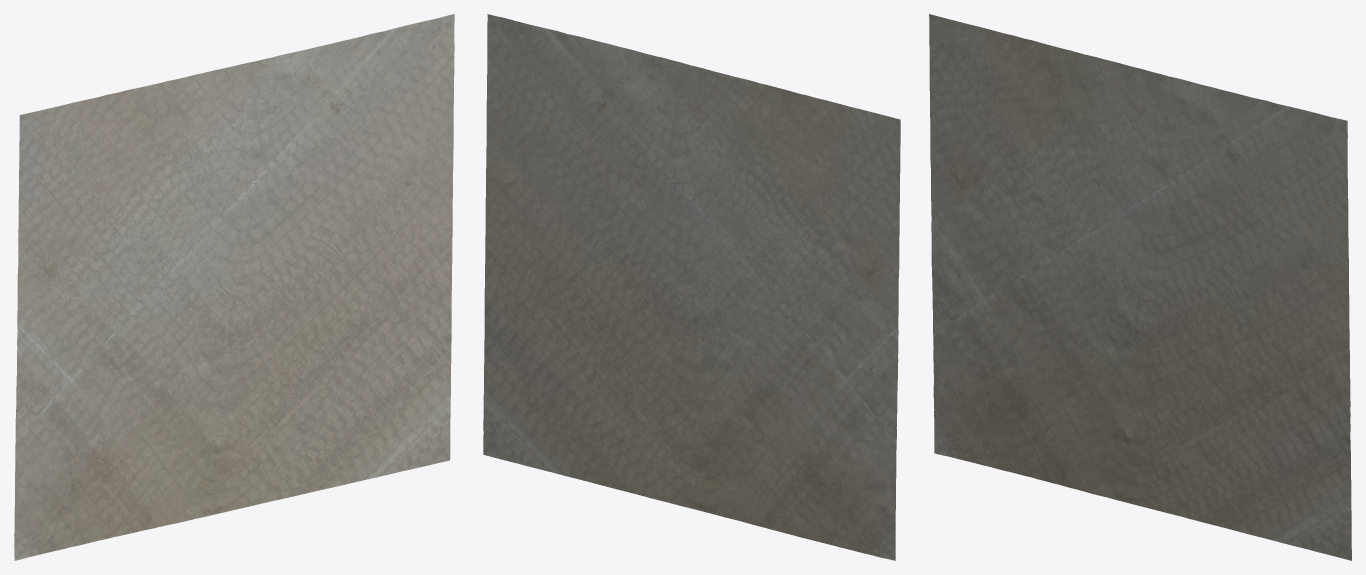
The model's file is Tile_+019_+012.fbx.
3 renders of one model, left to right at view 1: azimuth 30°, elevation 25°; view 2: azimuth 150°, elevation 25°; view 3: azimuth 330°, elevation 25°, orthographic. The views are drawn at different scales.
Parts seen in each view (by area): view 1: DefaultName; view 2: DefaultName; view 3: DefaultName.
Part boxes in pixels (x1,y1,x2,y2): DefaultName: (14, 14, 454, 560); DefaultName: (483, 14, 900, 560); DefaultName: (929, 14, 1351, 560).
Bounding box in the file's own units: 22.54 × 22.54 × 0.9902.
